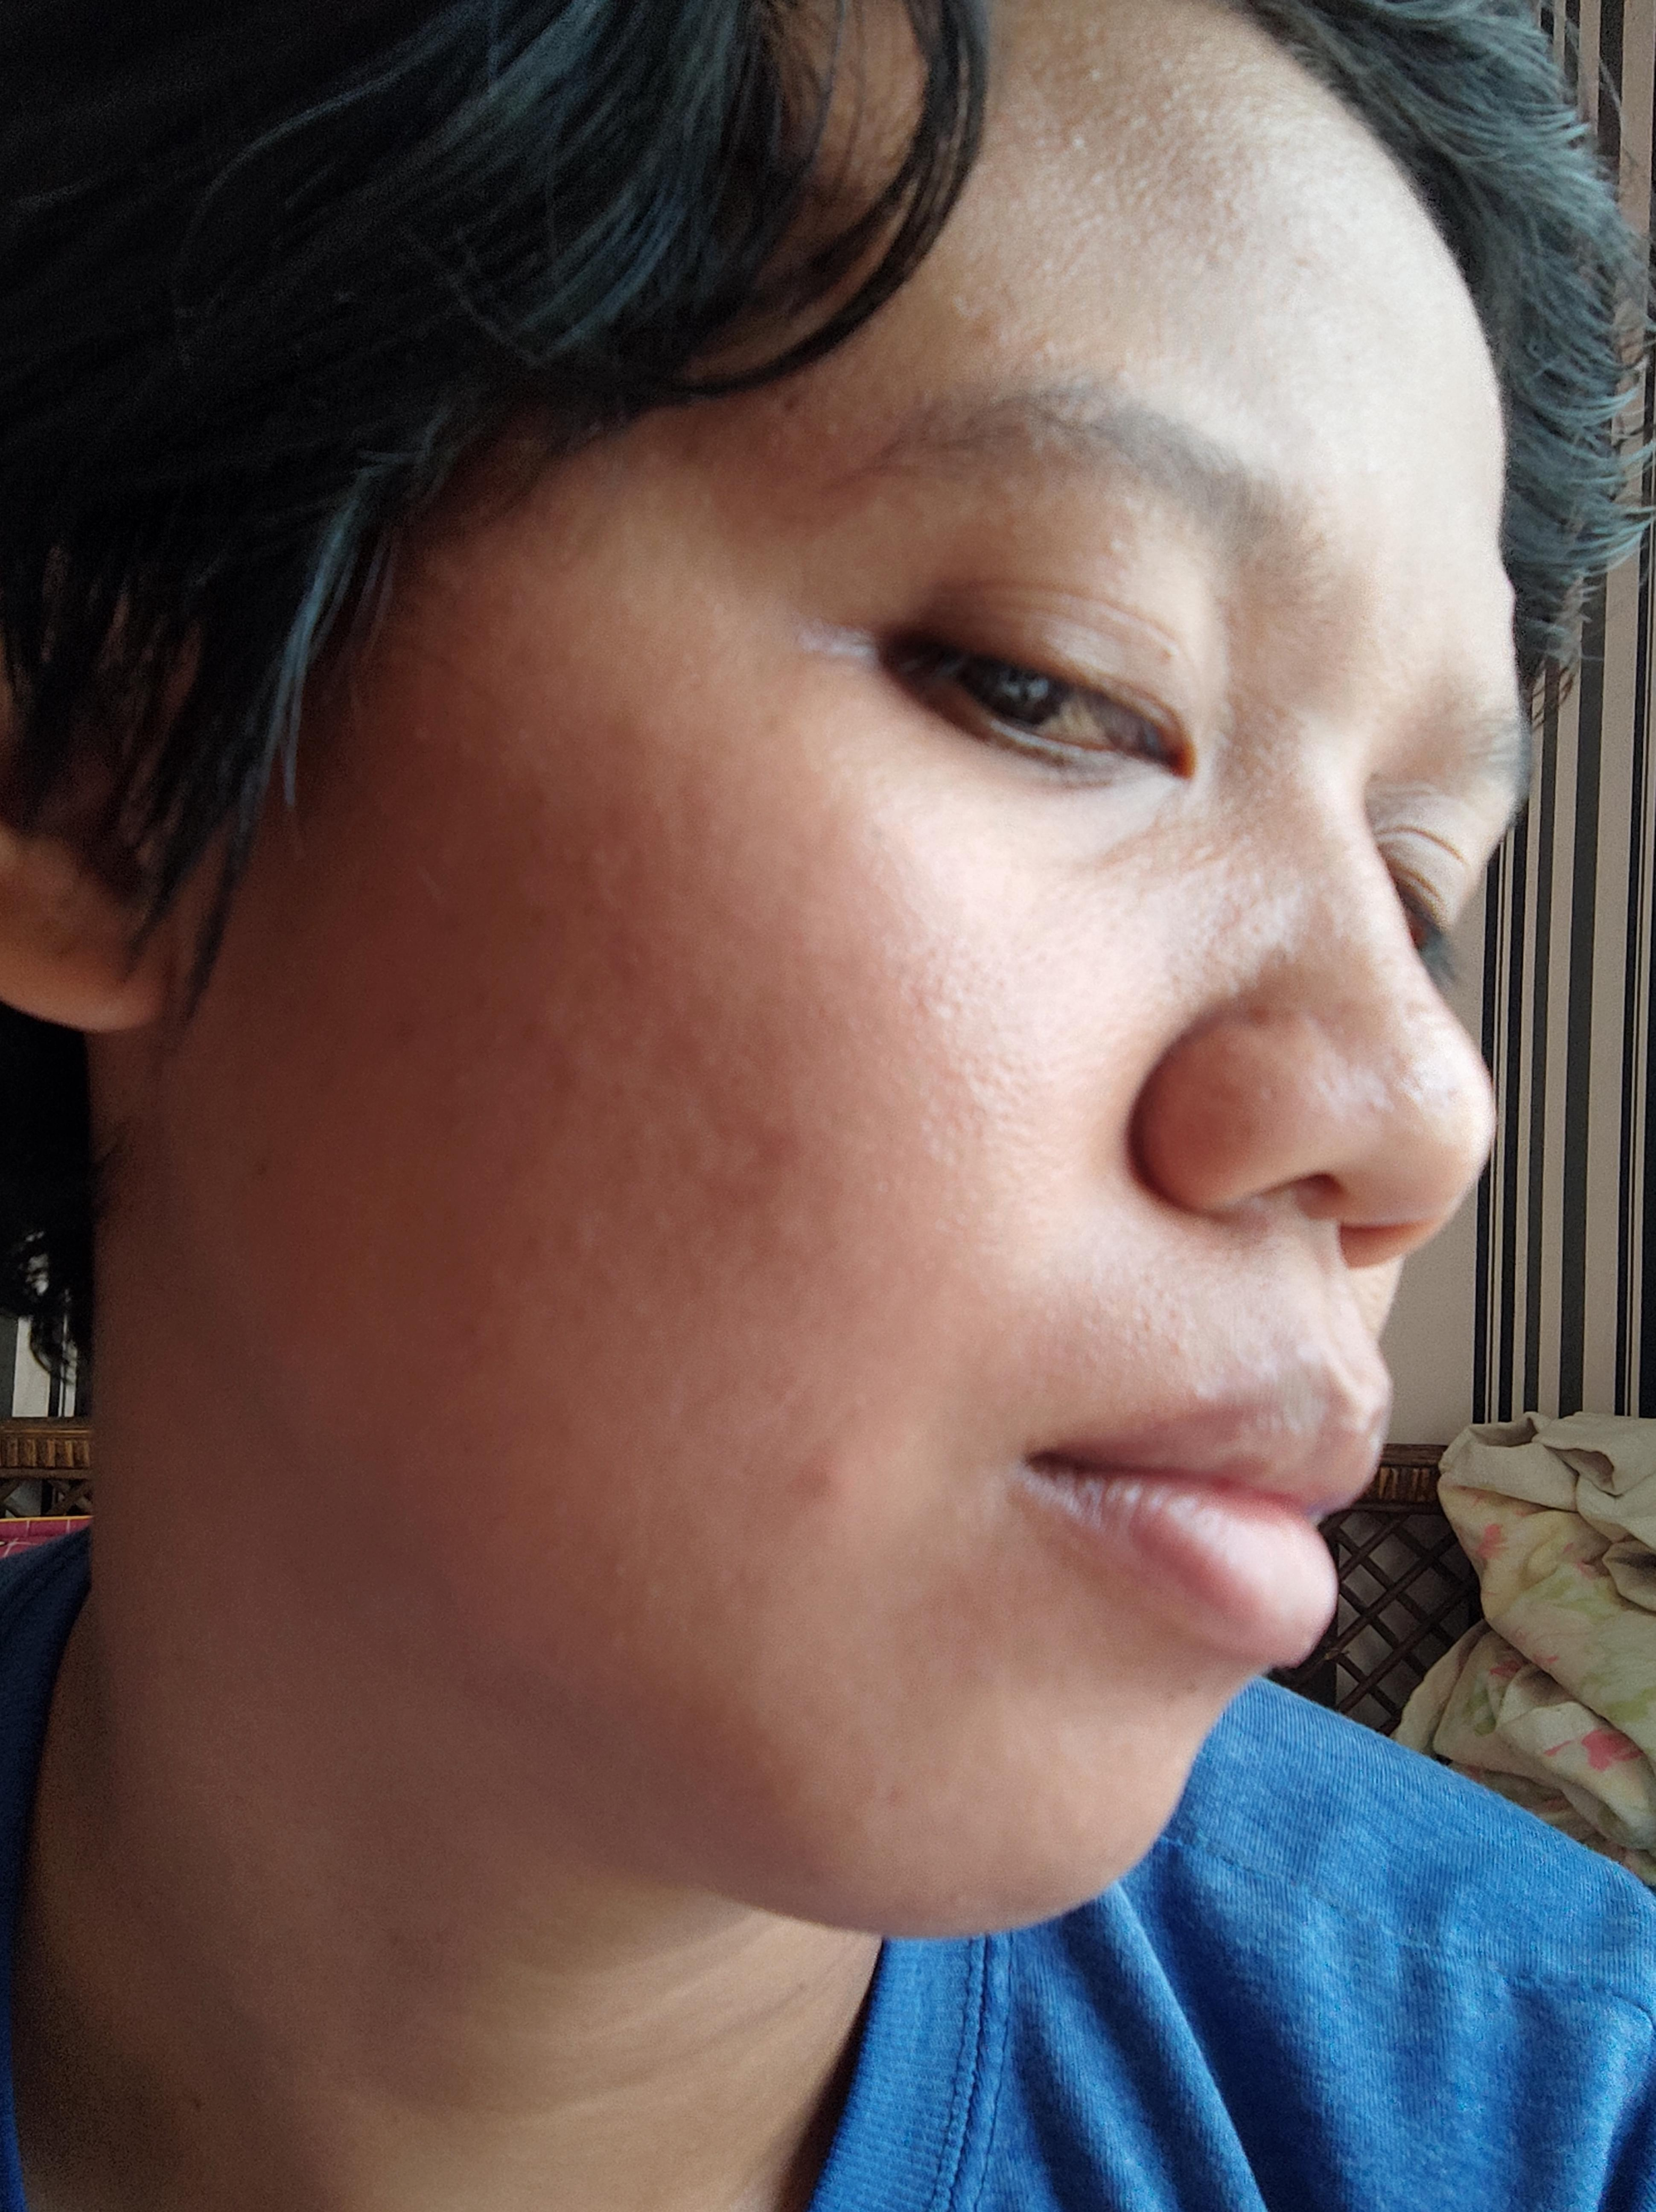Acne: (785, 1457, 861, 1527)
Englarged-Pores: (1303, 974, 1423, 1130)
